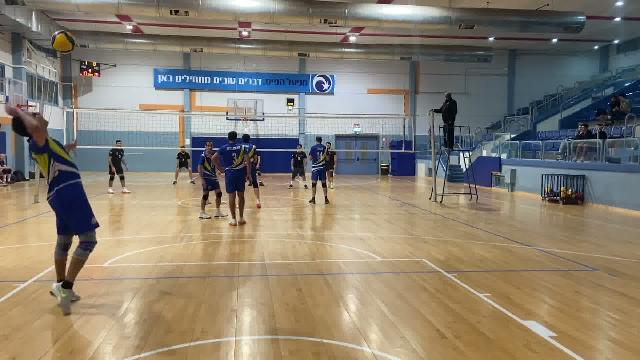ball: (48, 28, 75, 51)
